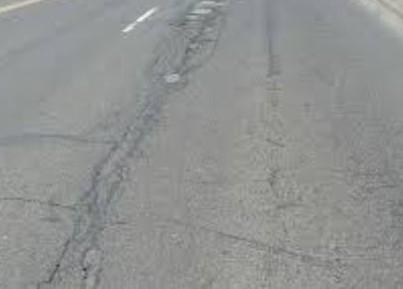crack: (71, 3, 232, 287)
